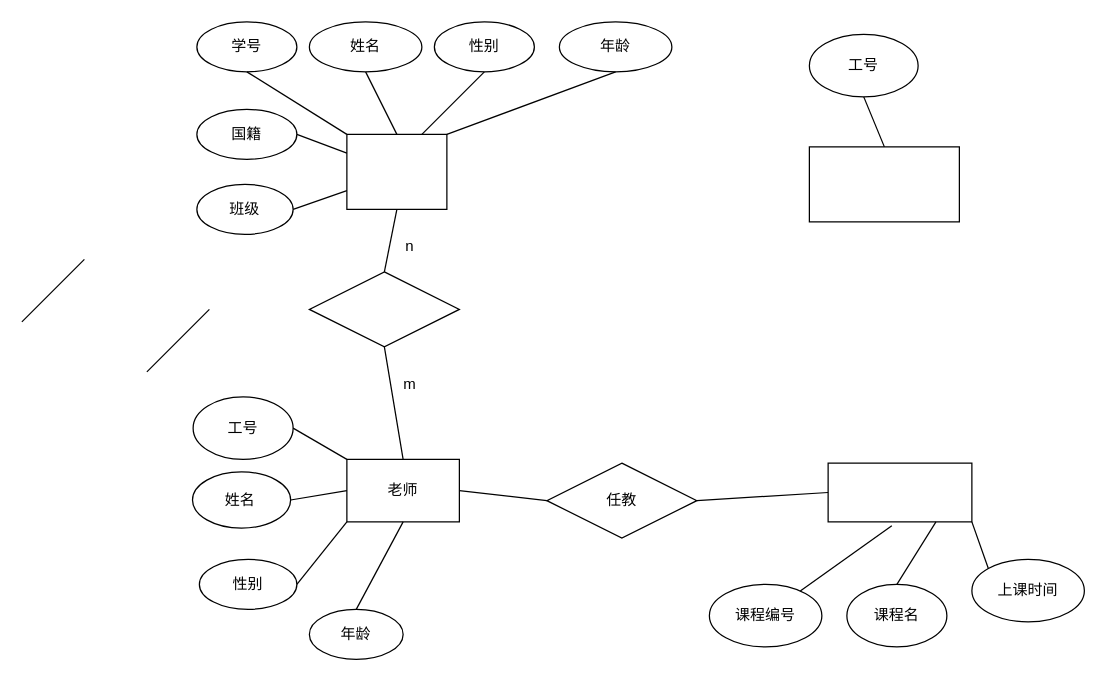
Some shapes in this 1106 by 681 pixel diagram are drawn without their labels. The centre of each missing label's shape, as x and y in pixels:
学生: the point at 396,171
教学: the point at 383,309
管理员: the point at 883,184
课程: the point at 899,492
